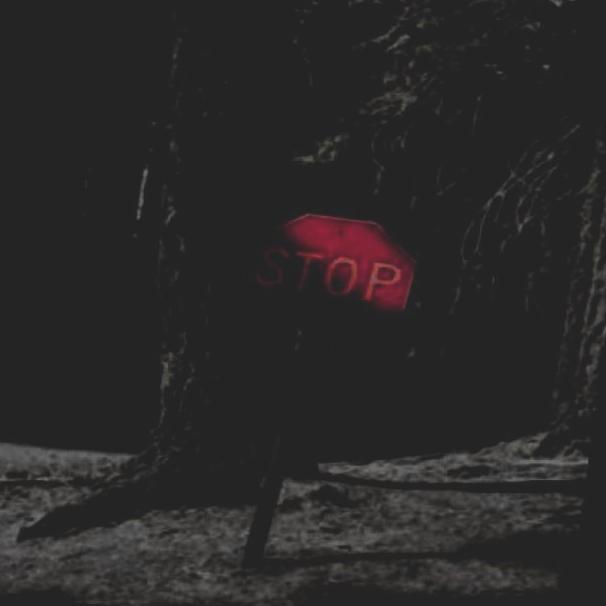stop_sign: (227, 204, 422, 344)
